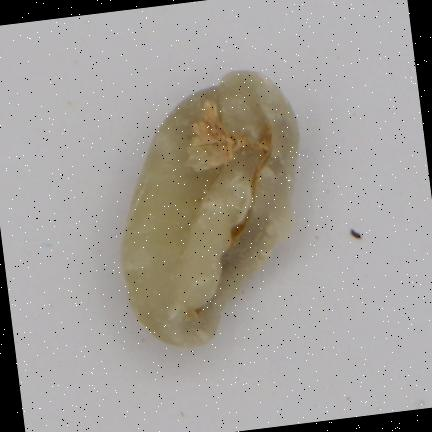broken: (122, 70, 298, 346)
